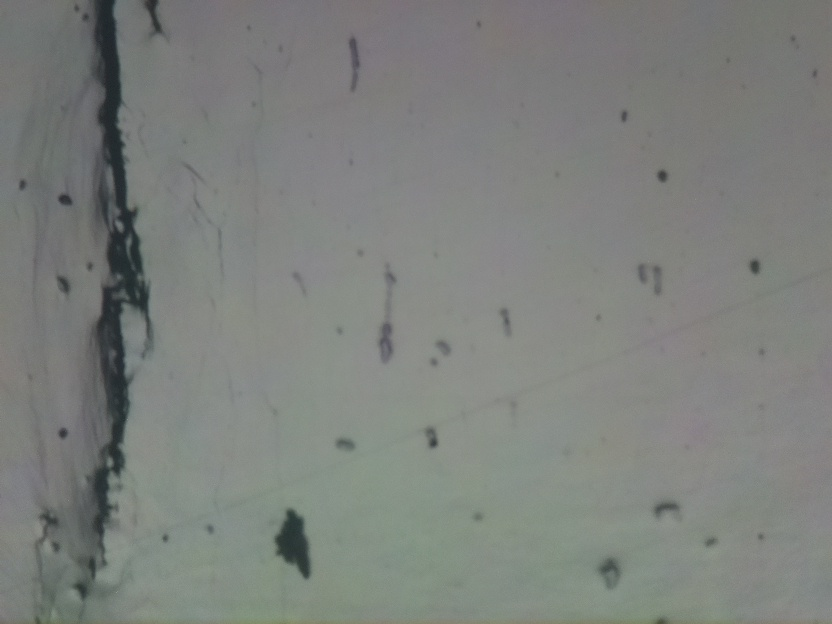crack: (91, 0, 147, 550)
